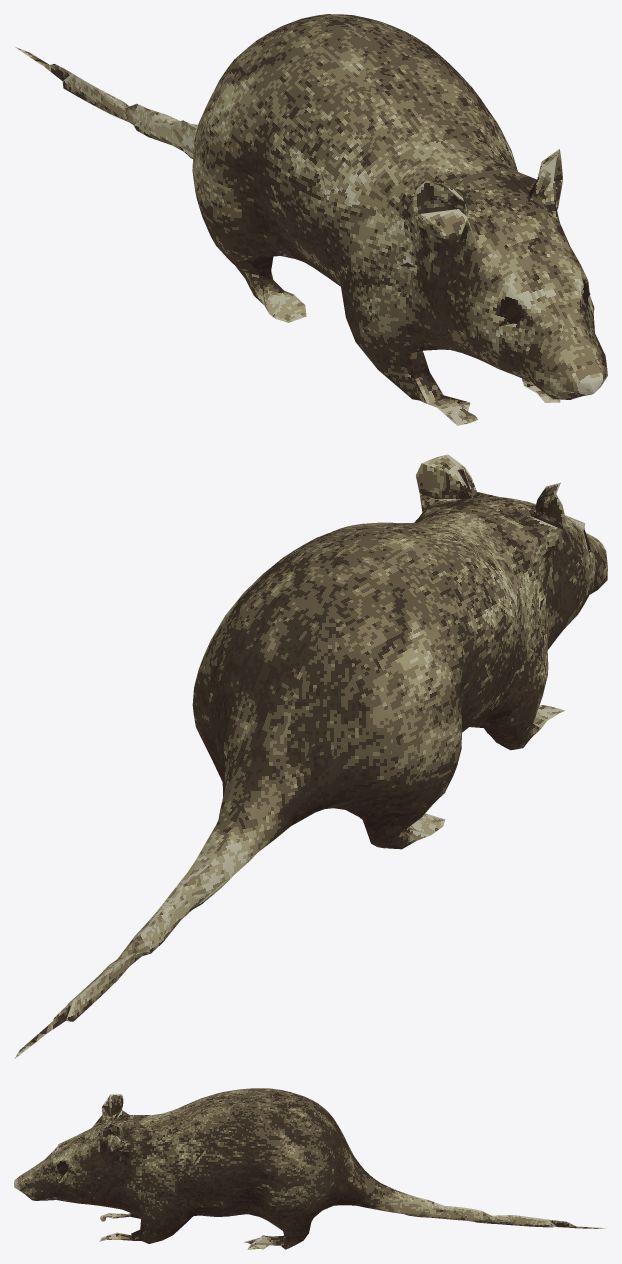
Rendered from street_rat.glb.
3 views of the same model, one above another, from view 1: azimuth 30°, elevation 25°; view 2: azimuth 150°, elevation 25°; view 3: azimuth 270°, elevation 25° (orthographic). The views are drawn at different scales.
Parts seen in each view (by area): view 1: mesh; view 2: mesh; view 3: mesh.
Part boxes in pixels (left/top/right/bottom): mesh: left=15, top=14, right=607, bottom=425; mesh: left=14, top=454, right=607, bottom=1058; mesh: left=14, top=1088, right=606, bottom=1249.
Size of the model in its own units: 13.19 by 14 by 54.65.
Materials: 1 (1 with a texture image).
